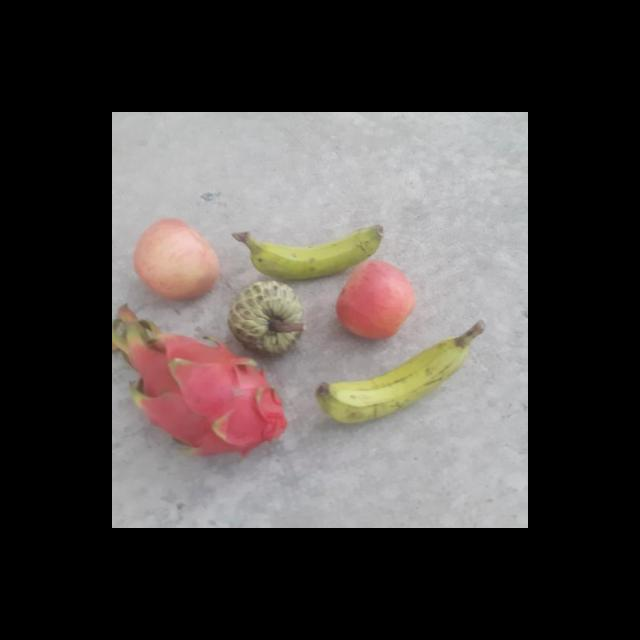Sakya fruit: (228, 280, 304, 358)
apple: (130, 217, 222, 302), (335, 258, 418, 340)
banana: (313, 336, 473, 424), (236, 223, 384, 280)
pitaya: (115, 329, 287, 456)
